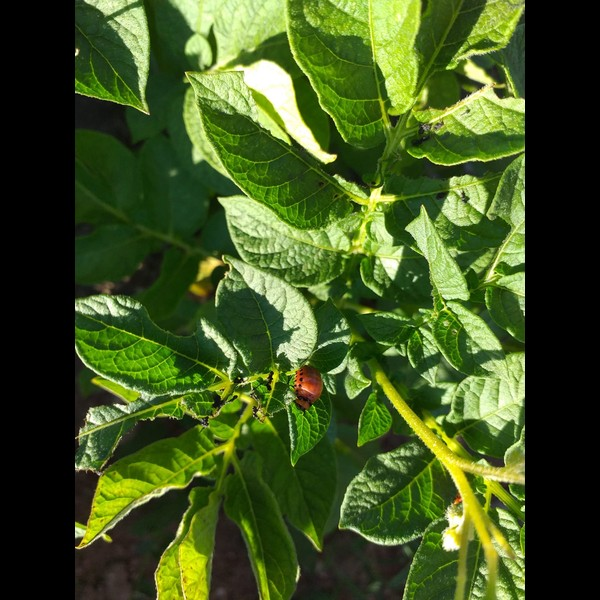hrosc: (291, 358, 329, 414)
